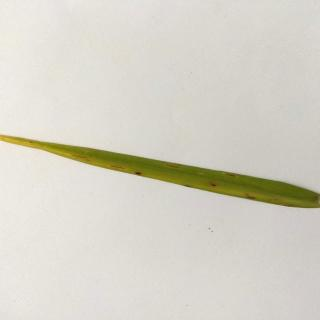bercak-Cokelat: (209, 182, 217, 188), (135, 170, 143, 176)
